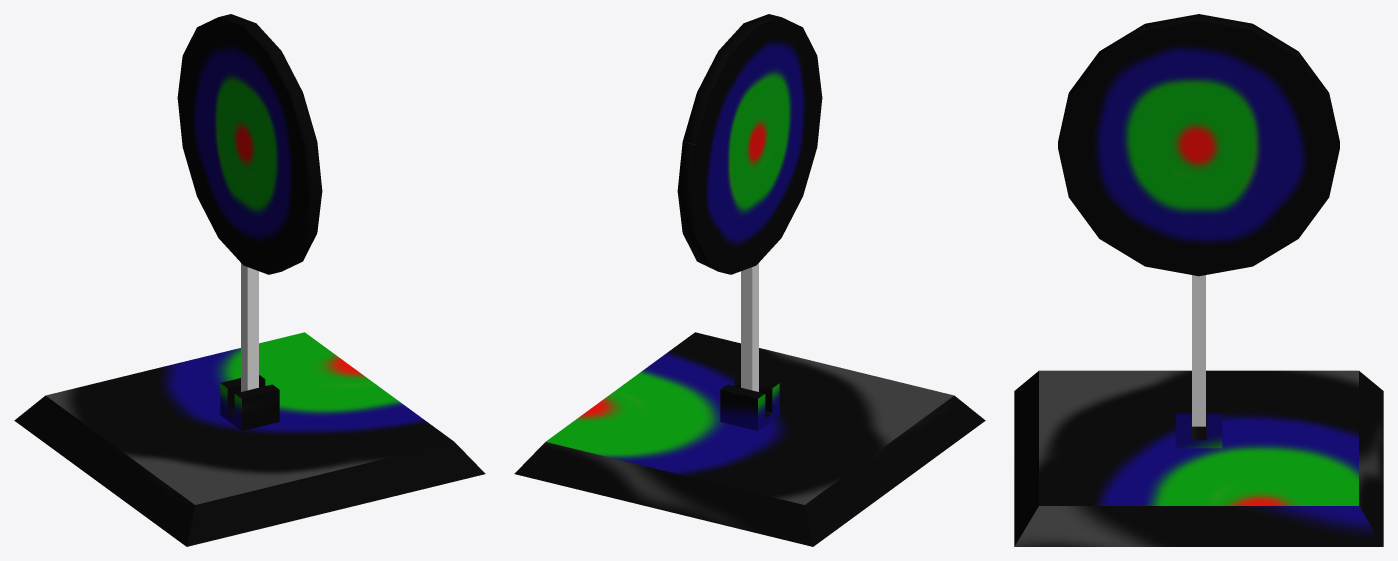
Rendered from diana_0.dae.
3 views of the same model, side by side, from view 1: azimuth 30°, elevation 25°; view 2: azimuth 150°, elevation 25°; view 3: azimuth 270°, elevation 25° (orthographic). The views are drawn at different scales.
Visible parts, largest first — view 1: Cube, Cylinder, Cube.001; view 2: Cube, Cylinder, Cube.001; view 3: Cube, Cylinder, Cube.001.
Boxes of the visible parts, x1=… form: Cube: x1=14, y1=332, x2=485, y2=546; Cylinder: x1=177, y1=14, x2=322, y2=274; Cube.001: x1=241, y1=263, x2=258, y2=391; Cube: x1=514, y1=332, x2=985, y2=546; Cylinder: x1=677, y1=14, x2=822, y2=274; Cube.001: x1=741, y1=263, x2=758, y2=391; Cube: x1=1014, y1=370, x2=1383, y2=546; Cylinder: x1=1058, y1=14, x2=1339, y2=276; Cube.001: x1=1192, y1=275, x2=1205, y2=426.
Bounding box in the file's own units: 0.5463 × 0.5463 × 0.7376.
Materials: 1 (1 with a texture image).
